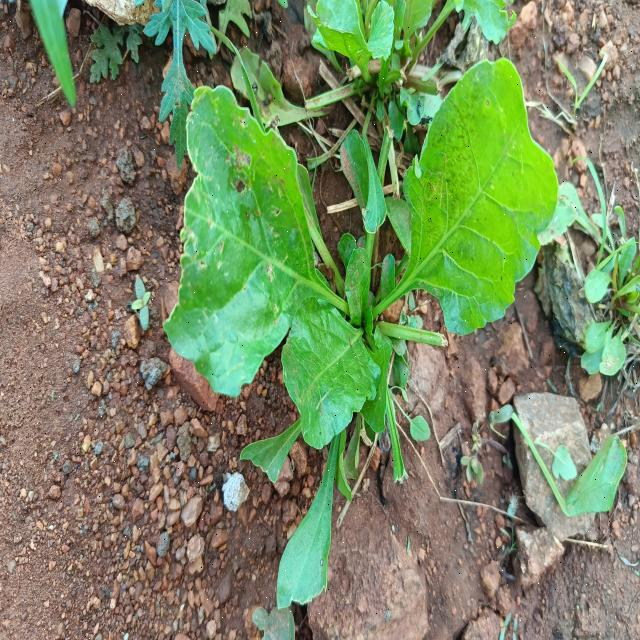half-leaf: (116, 77, 378, 413)
leaves: (352, 62, 578, 377), (250, 271, 407, 442), (256, 423, 364, 640), (339, 242, 375, 331), (348, 300, 382, 372)
